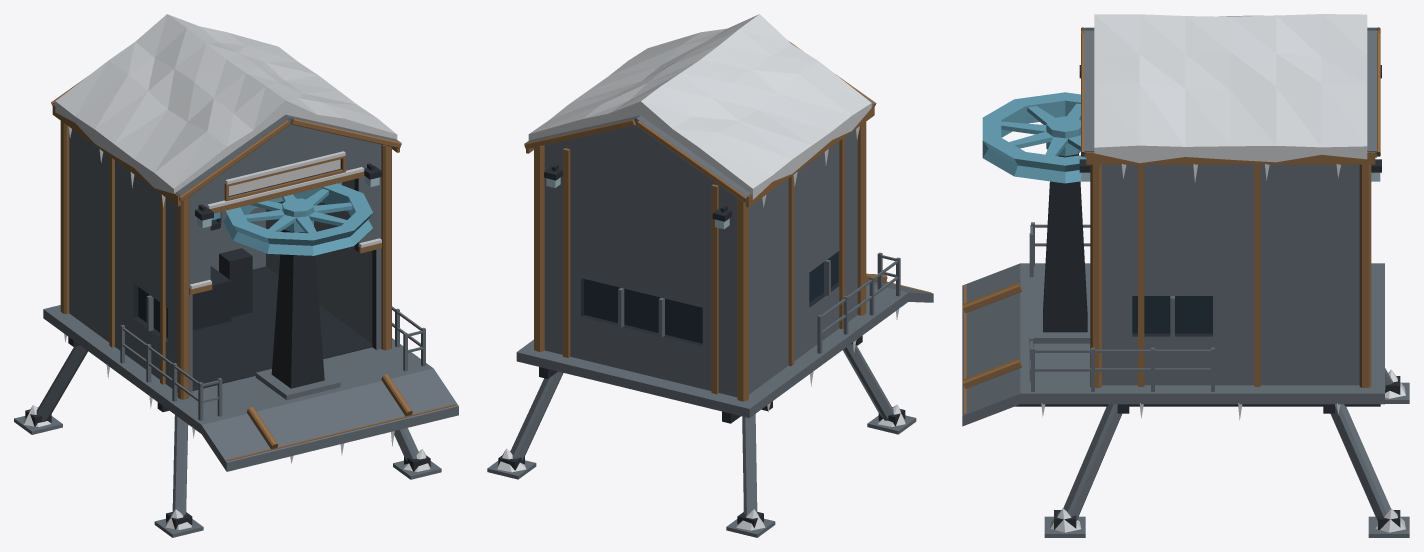
File: lift-top-station-46d313.glb
3 views of the same model, side by side, from view 1: azimuth 30°, elevation 25°; view 2: azimuth 150°, elevation 25°; view 3: azimuth 270°, elevation 25° (orthographic). The views are drawn at different scales.
Parts seen in each view (by area): view 1: station, return-wheel; view 2: station; view 3: station, return-wheel.
Boxes of the visible parts, <box> form: station: <box>14,14,458,537</box>; return-wheel: <box>223,183,372,255</box>; station: <box>487,14,933,537</box>; station: <box>962,14,1409,537</box>; return-wheel: <box>982,92,1086,183</box>.
Bounding box in the file's own units: 8 × 11.06 × 10.
